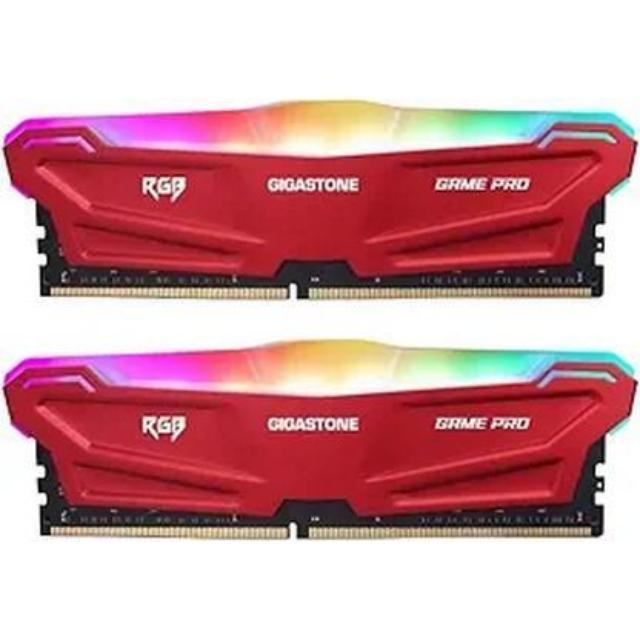RAM: (0, 84, 640, 314), (0, 332, 637, 550)
